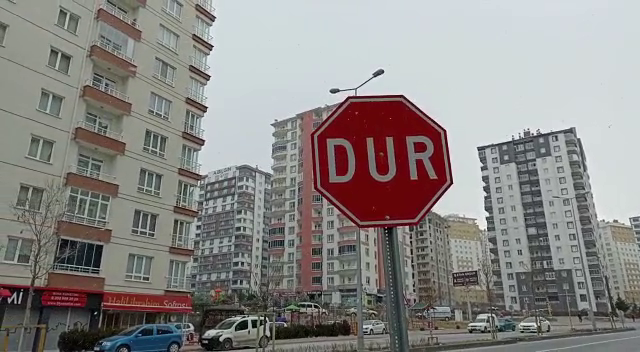stop: (307, 92, 457, 231)
